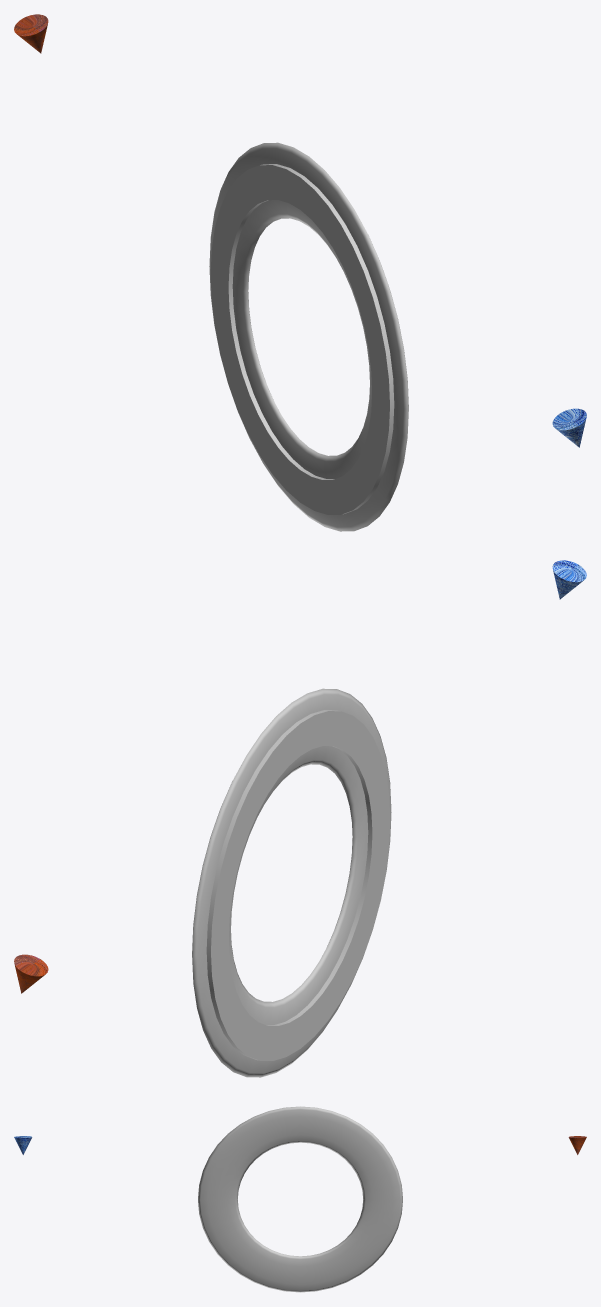
File: portal2.DAE
3 views of the same model, one above another, from view 1: azimuth 30°, elevation 25°; view 2: azimuth 150°, elevation 25°; view 3: azimuth 270°, elevation 25° (orthographic). The views are drawn at different scales.
Parts seen in each view (by area): view 1: Rohr005, Torus006, Kegel009, Kegel008; view 2: Rohr005, Torus006, Kegel008, Kegel009; view 3: Torus006.
Boxes of the visible parts, <box> form: Rohr005: <box>210,164,394,514</box>; Torus006: <box>209,142,408,531</box>; Kegel009: <box>14,14,48,53</box>; Kegel008: <box>552,408,586,447</box>; Rohr005: <box>206,710,390,1060</box>; Torus006: <box>192,688,391,1077</box>; Kegel008: <box>552,560,586,599</box>; Kegel009: <box>14,954,48,993</box>; Torus006: <box>198,1106,402,1292</box>.
Bounding box in the file's own units: 1.9 × 62 × 22.21.
